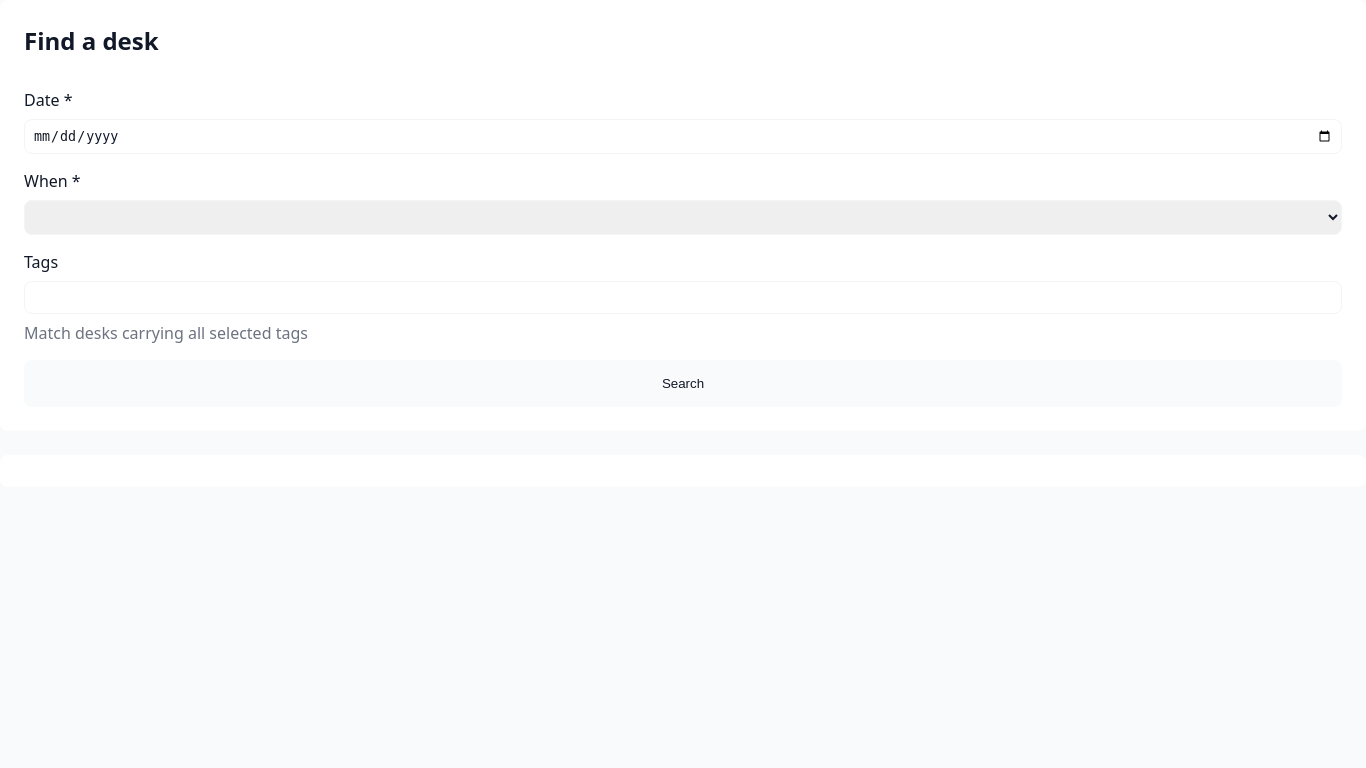
DeskFinder › runs a valid search and renders the available desks
The image size is (1366, 768).
Type "2026-07-27" into the date field with id "desk-search-date".
click(683, 137); type("2026-07-27")  # box top-left (24, 119), bottom-right (1342, 154)
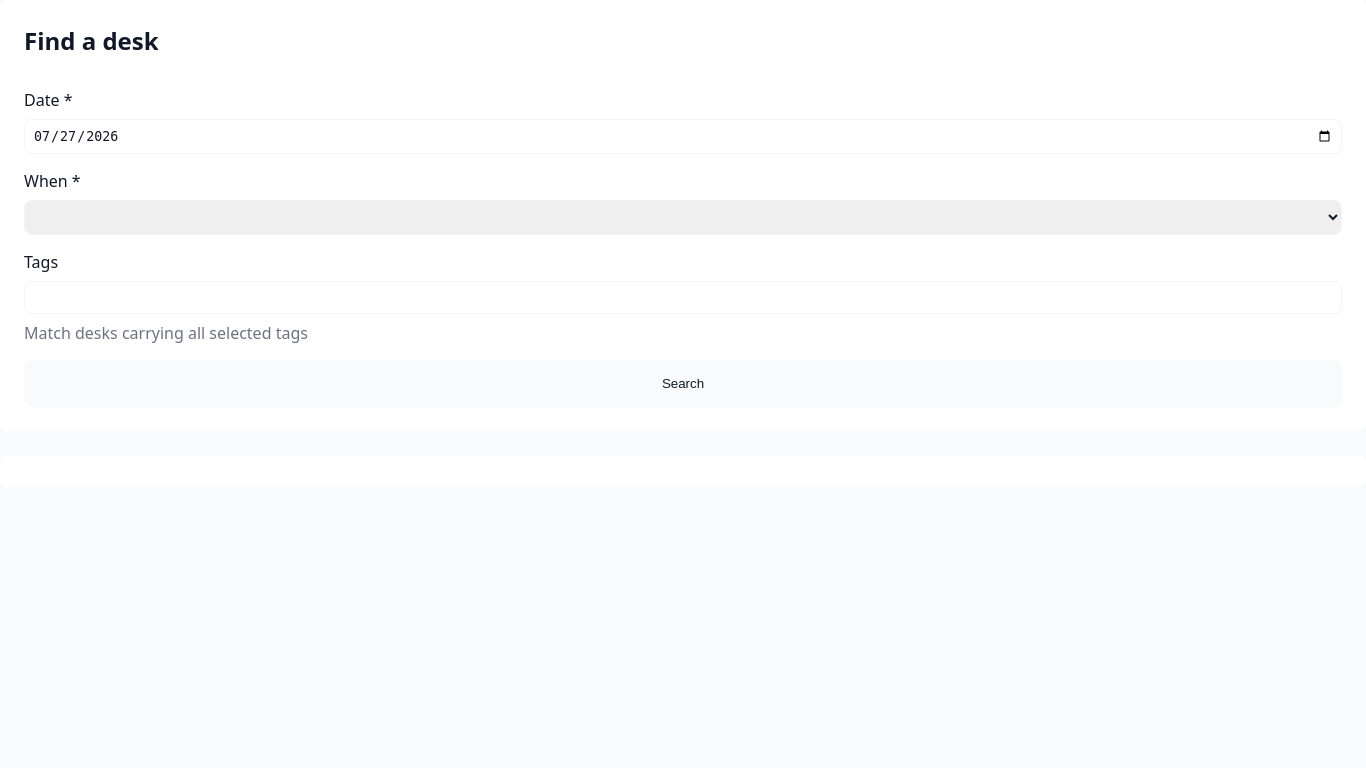
Select "Full day" in the dropdown with id "desk-search-when" at (683, 218), box top-left (24, 200), bottom-right (1342, 235)
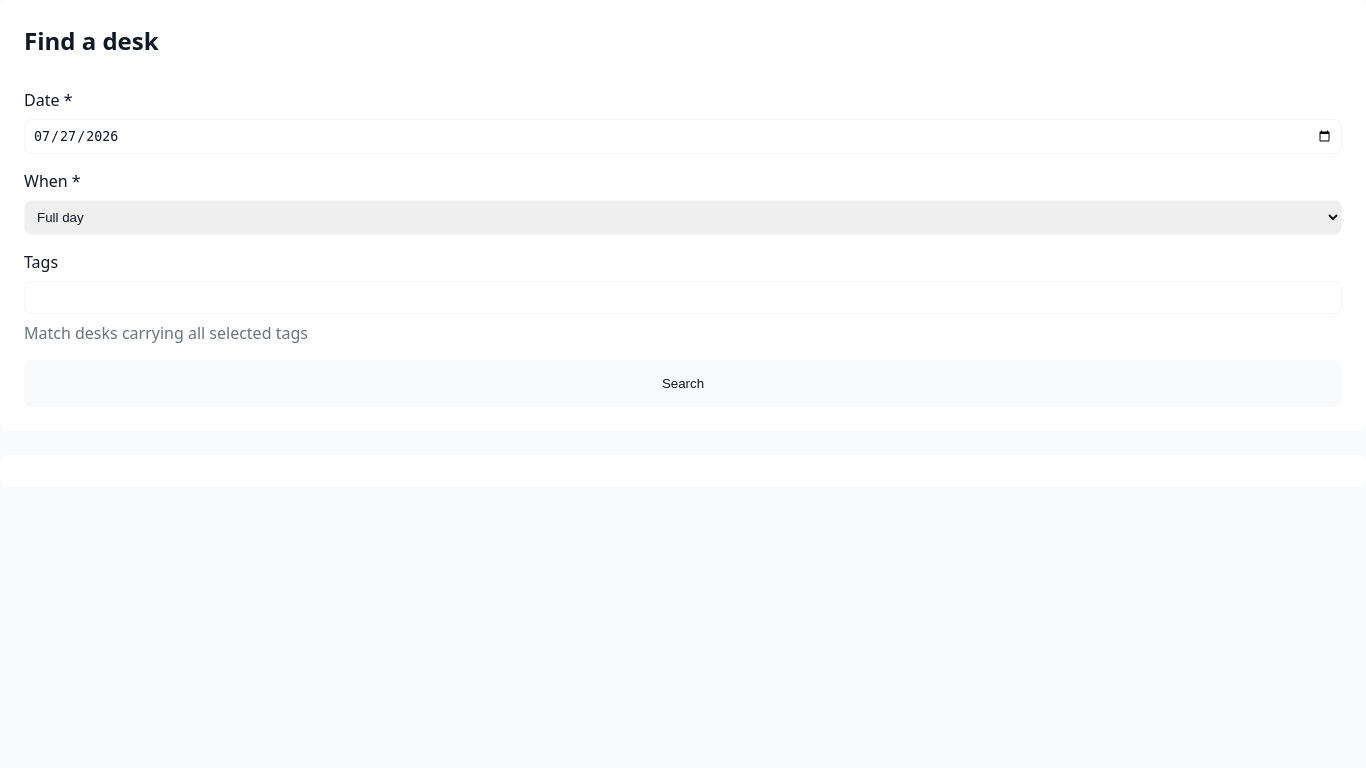
Submit the form, box top-left (0, 0), bottom-right (1365, 431)
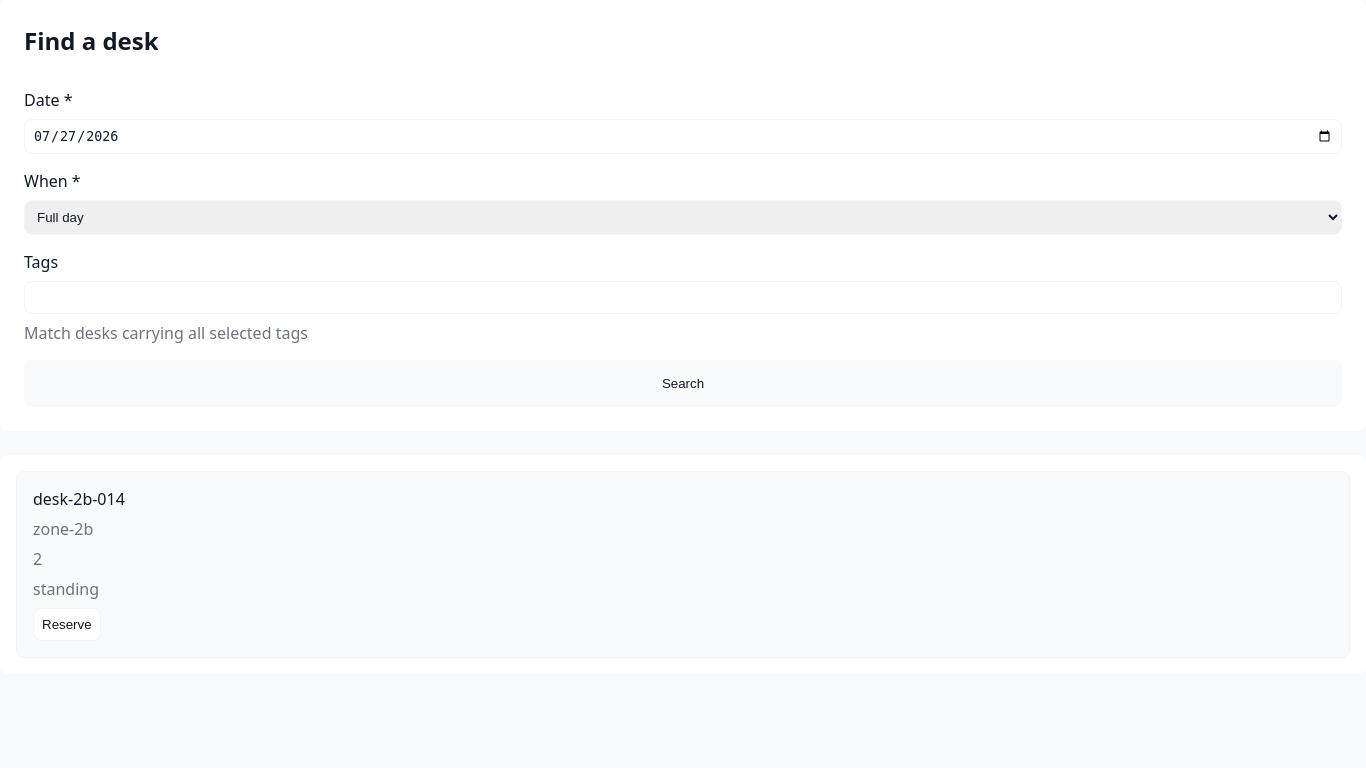
expect the text with class "desk-card__label" reads "desk-2b-014": met, box top-left (33, 488), bottom-right (125, 510)
